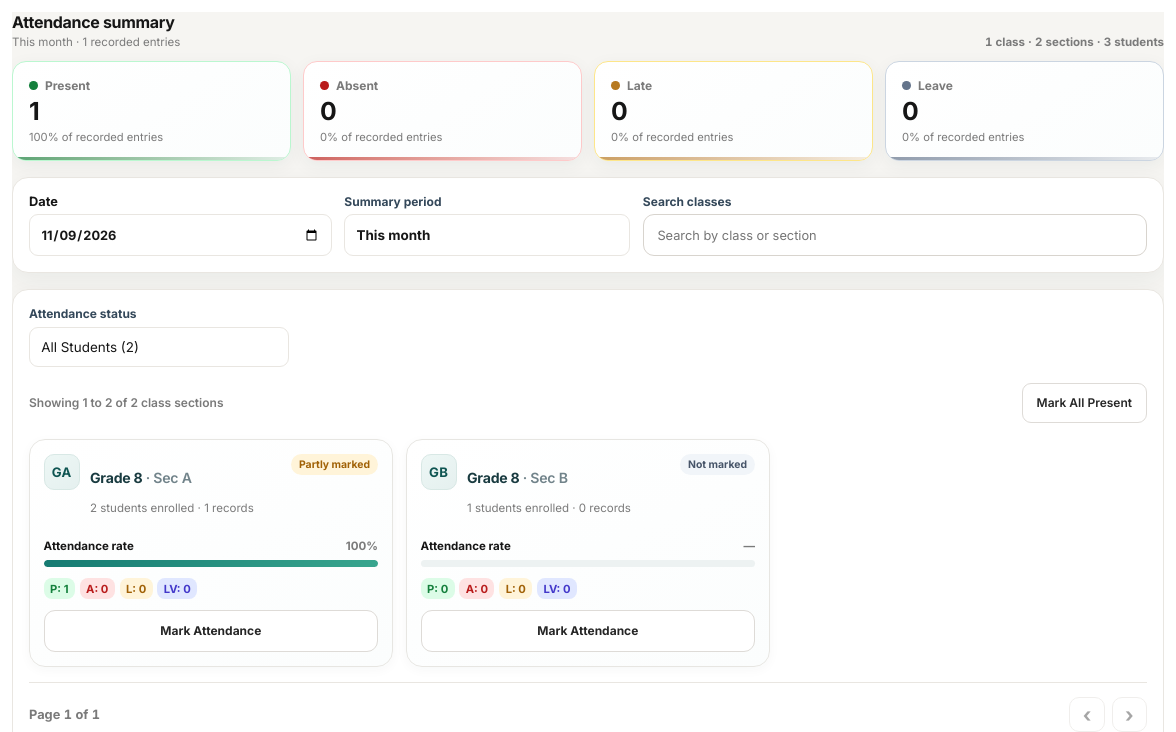
it: AttendanceClassesOverview › searches class and section names and clears the search
Expected: the number of headings "Grade 8 · Sec A" is 2, [90,469,192,486]; [467,469,568,486]
In the search field named "Search classes and sections": point(895, 235) [643,214,1147,256], type "grade 8 b"
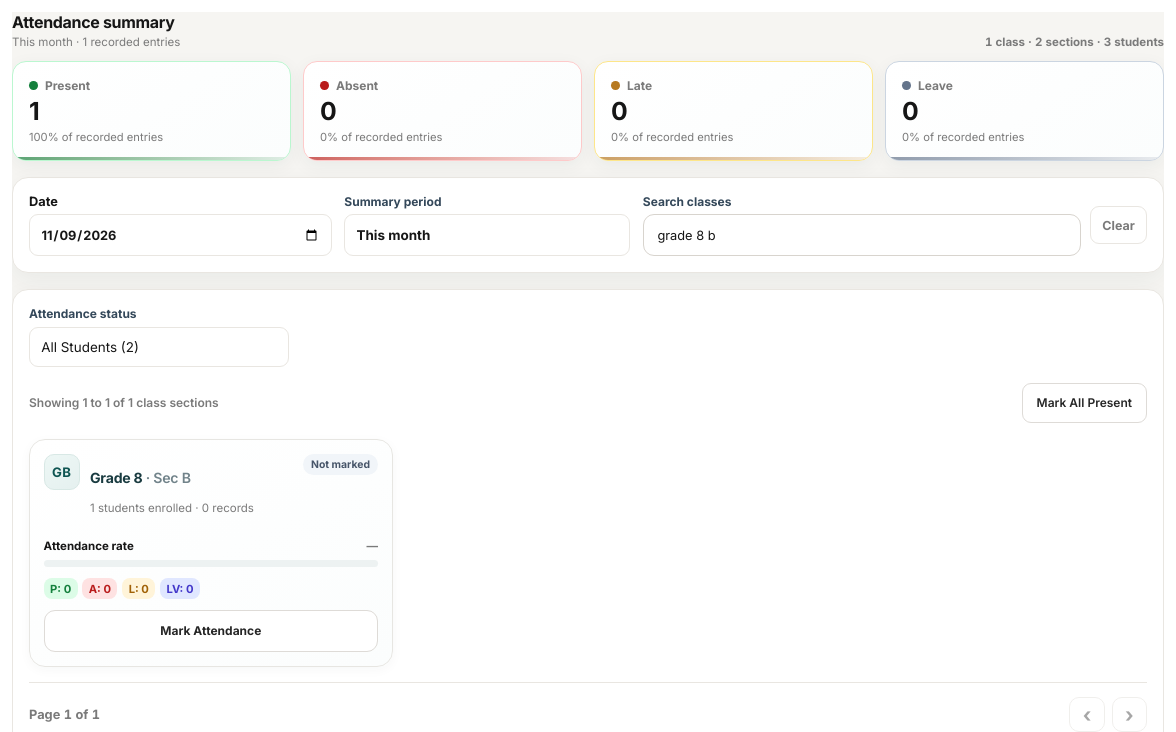
Expected: the heading "Grade 8 · Sec B" is shown, [90,469,191,486]
Now the text "Showing 1 to 1 of 1 class sections" is shown, box [29,395,219,410]
Now the heading "Grade 8 · Sec A" is gone
Click the button with aria-label "Clear class search": point(1119, 225) [1090,206,1147,244]
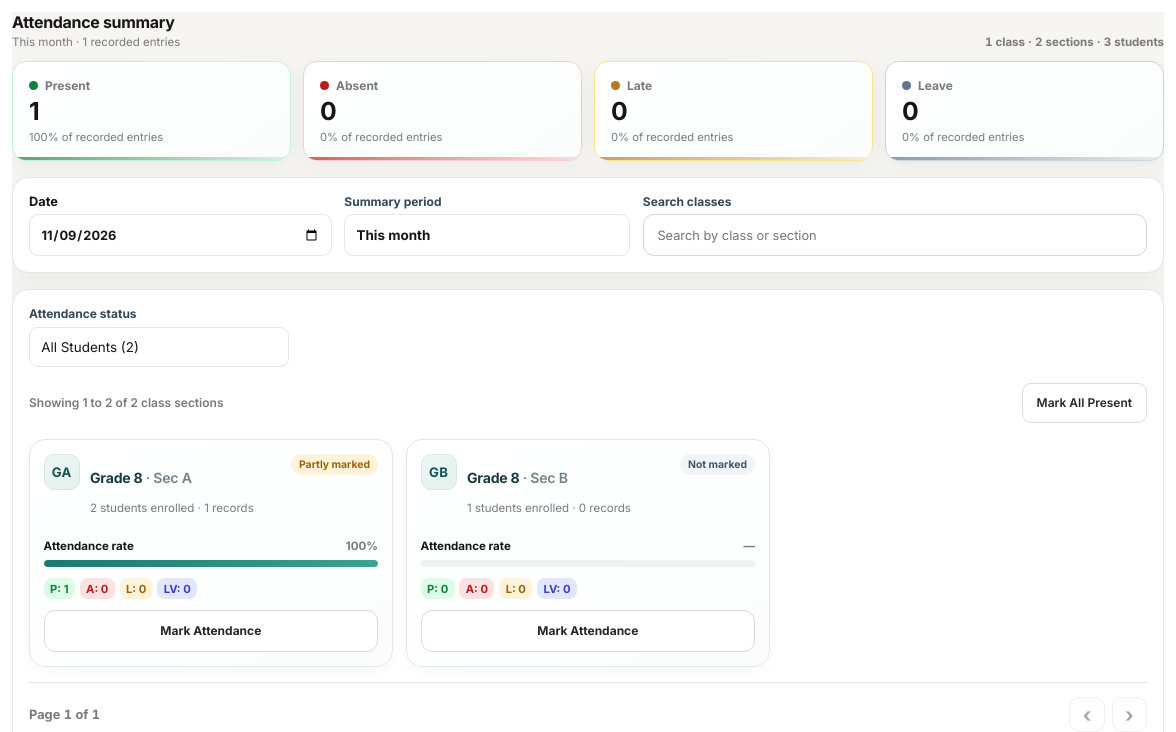
Now the text "Showing 1 to 2 of 2 class sections" is shown, box [29,395,224,410]
